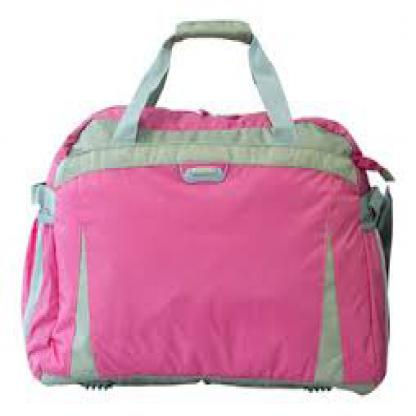morral: (18, 11, 405, 399)
